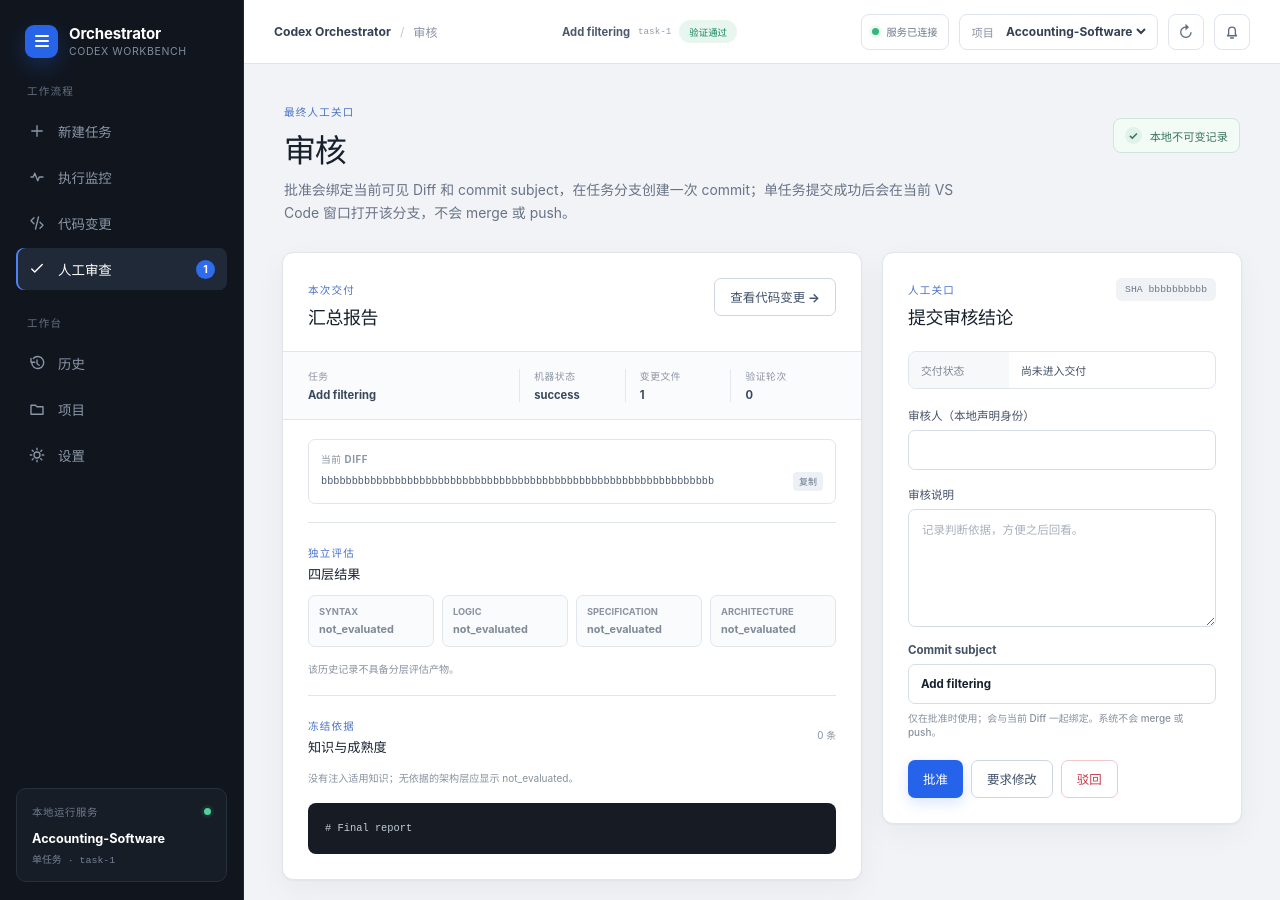
Test: App workbench › confirms an immutable review bound to the displayed diff
Step 1. Type "Local Reviewer" into the field with test id "reviewer" → (1062, 450), box [908,430,1216,470]
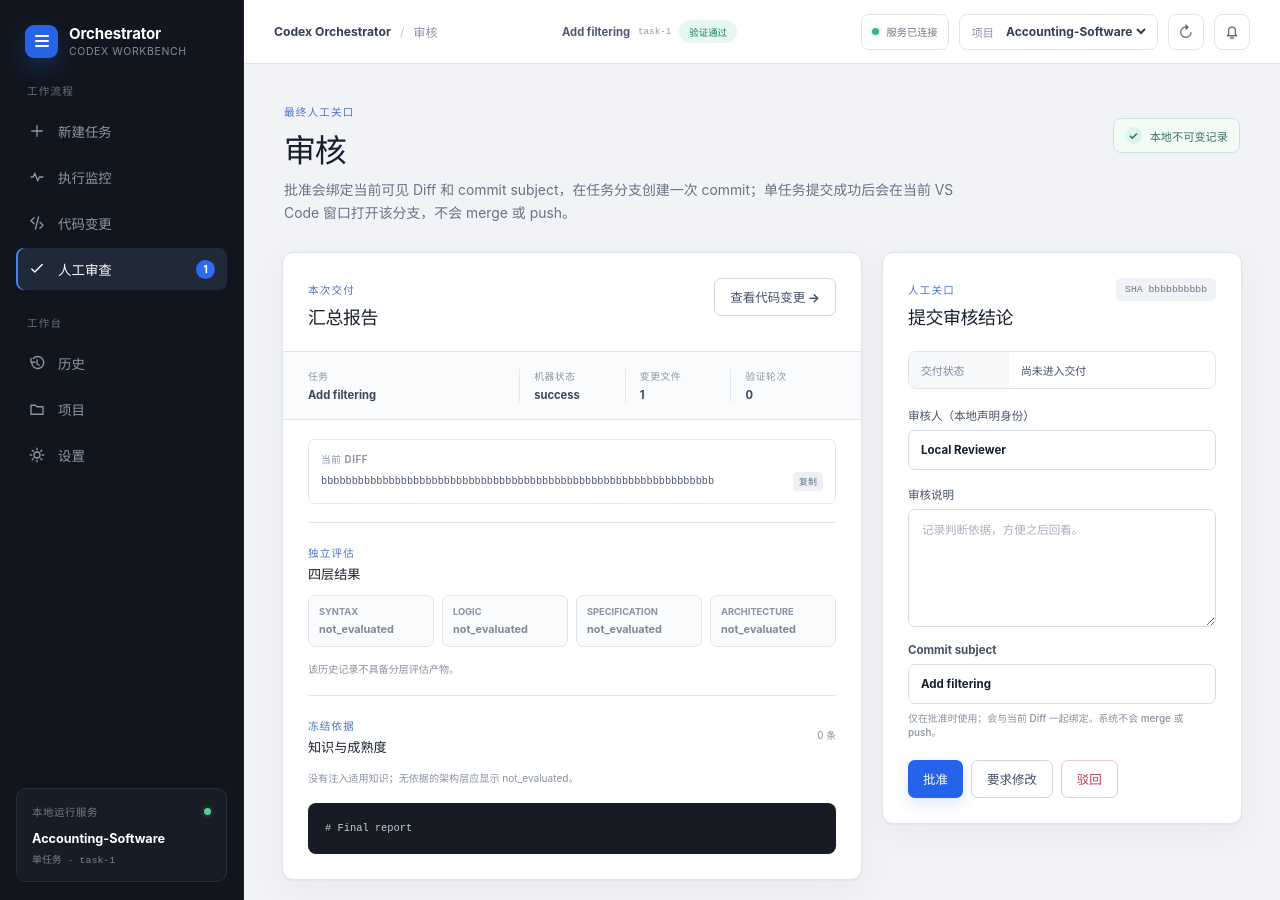
Step 2. Type "Checked." into the text box with test id "review-comment" → (1062, 568), box [908,509,1216,627]
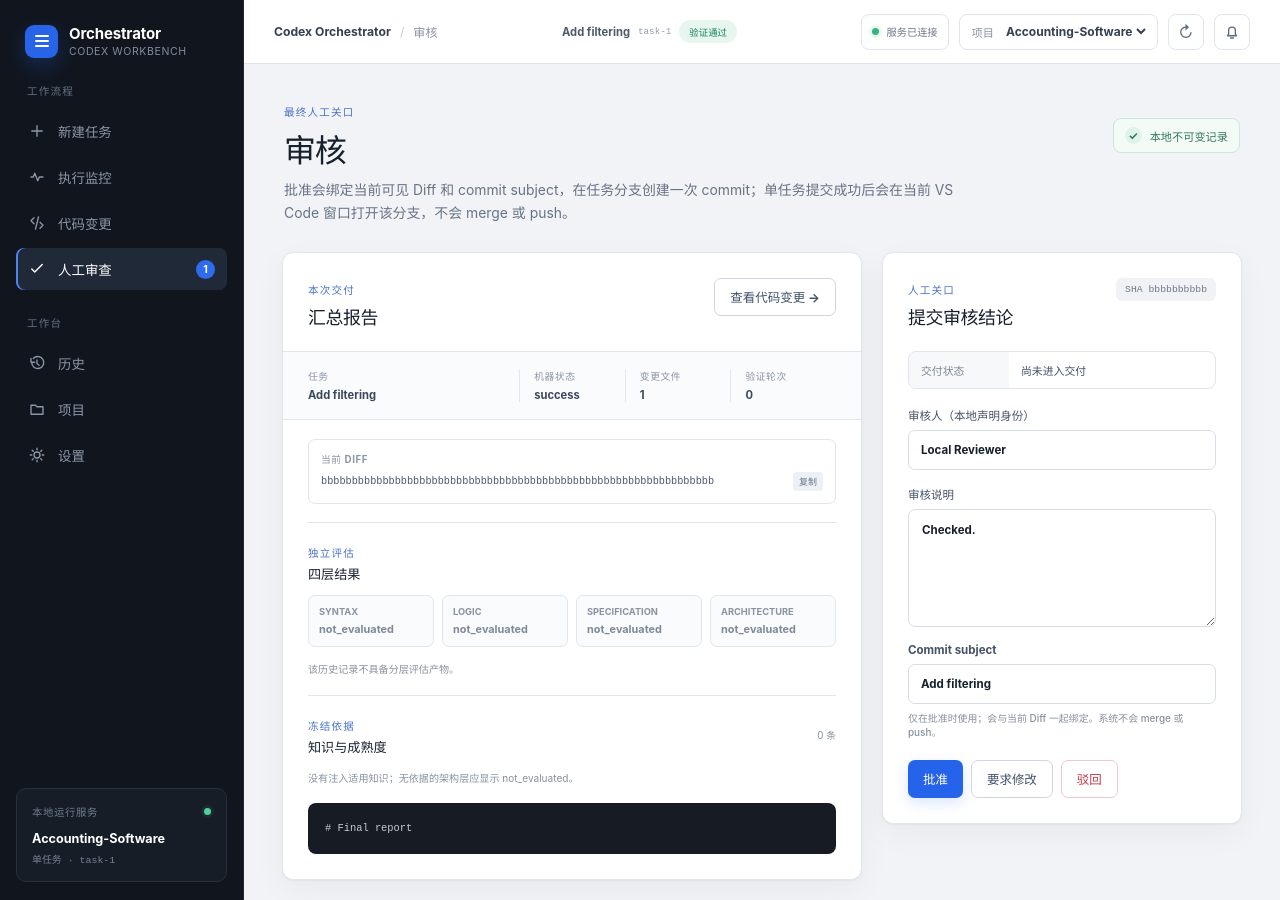
Step 3. Click the button with test id "approve" → (936, 779), box [908,760,963,798]
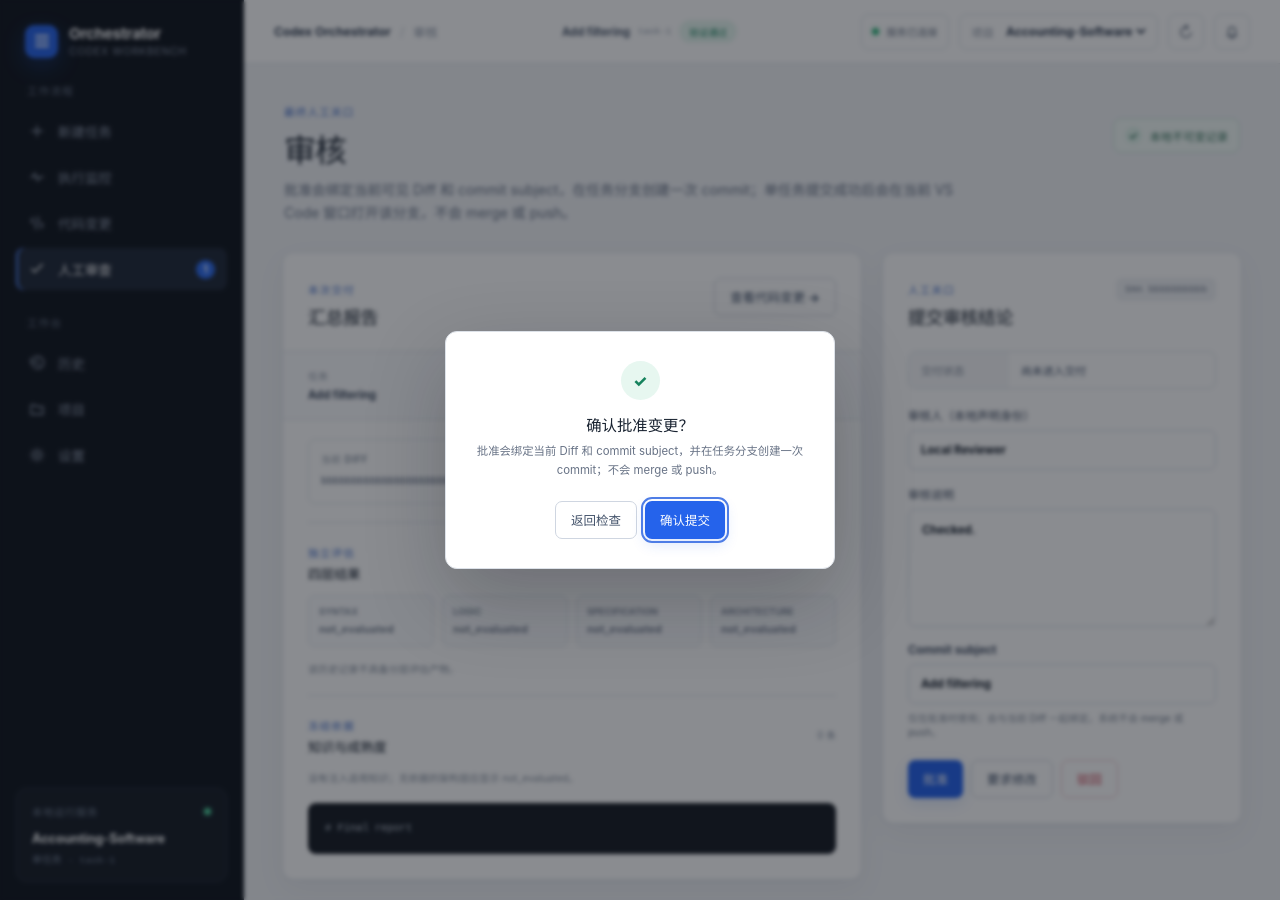
Step 4. Click the button with test id "confirm-review" → (685, 520), box [645,501,725,539]
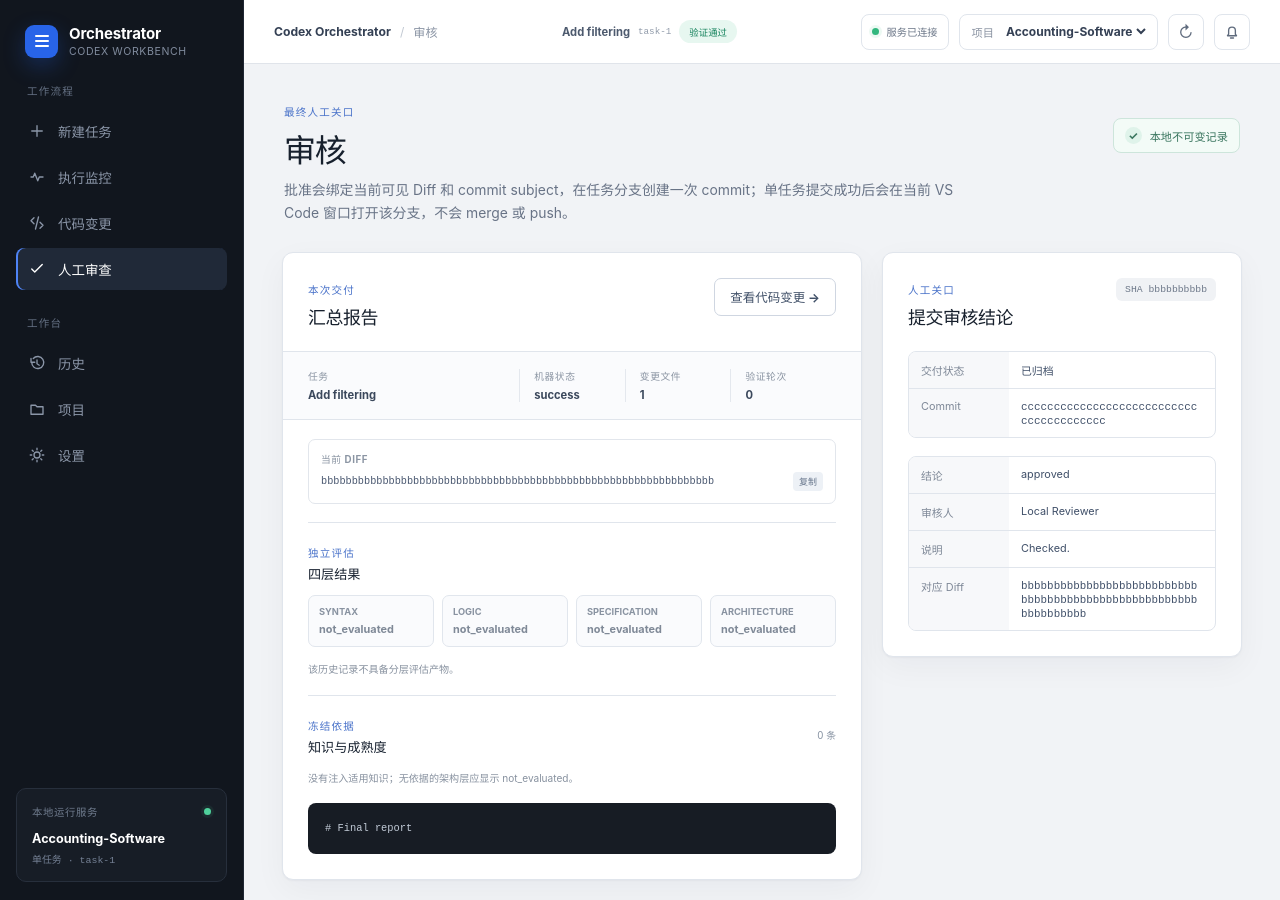
Result: the element with test id "review-panel" shows "Local Reviewer" at [1021,504,1099,518]
